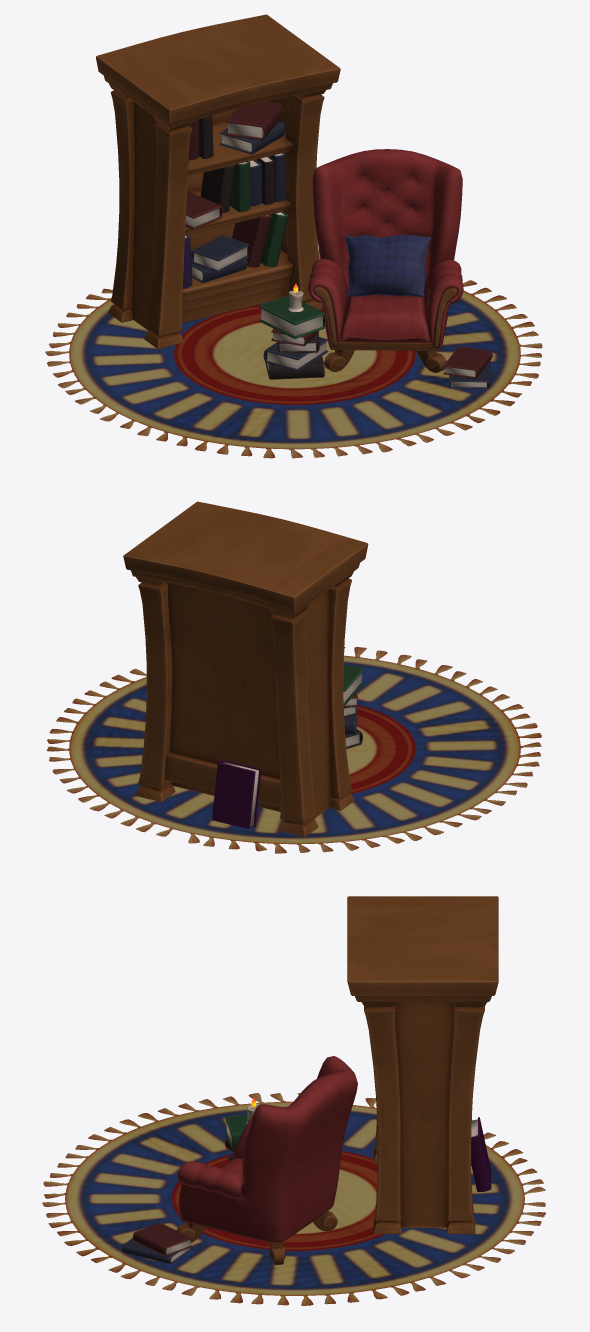
3 renders of one model, top to bottom at view 1: azimuth 30°, elevation 25°; view 2: azimuth 150°, elevation 25°; view 3: azimuth 270°, elevation 25°, orthographic.
Visible parts, largest first — view 1: shelf_2, carpet_1, armchair_low.001_0, book.025_19, book.021_18, book.013_9, book.003_4, book.029_25, book.016_12, book.022_17, book.024_23, book.002_3 (+7 smaller); view 2: shelf_2, carpet_1, book.030_26, book.025_19; view 3: carpet_1, shelf_2, armchair_low.001_0, book.029_25, book.030_26, book.028_24, book.025_19.
Boxes of the visible parts, left/top/right/bottom form: shelf_2: left=96, top=14, right=340, bottom=348; carpet_1: left=45, top=249, right=542, bottom=458; armchair_low.001_0: left=308, top=149, right=463, bottom=372; book.025_19: left=259, top=295, right=326, bottom=338; book.021_18: left=226, top=101, right=282, bottom=140; book.013_9: left=191, top=235, right=248, bottom=272; book.003_4: left=232, top=214, right=271, bottom=267; book.029_25: left=443, top=346, right=492, bottom=378; book.016_12: left=200, top=165, right=235, bottom=212; book.022_17: left=185, top=191, right=222, bottom=229; book.024_23: left=263, top=337, right=328, bottom=371; book.002_3: left=260, top=211, right=288, bottom=267; shelf_2: left=123, top=501, right=368, bottom=836; carpet_1: left=47, top=647, right=541, bottom=853; book.030_26: left=212, top=760, right=261, bottom=829; book.025_19: left=343, top=665, right=363, bottom=705; carpet_1: left=42, top=1093, right=545, bottom=1306; shelf_2: left=347, top=896, right=498, bottom=1233; armchair_low.001_0: left=176, top=1056, right=357, bottom=1265; book.029_25: left=133, top=1222, right=192, bottom=1256; book.030_26: left=471, top=1117, right=491, bottom=1191; book.028_24: left=122, top=1238, right=191, bottom=1264; book.025_19: left=225, top=1115, right=247, bottom=1149.
Bounding box in the file's own units: 3.92 × 1.97 × 3.92.
Materials: 9 (8 with a texture image).
